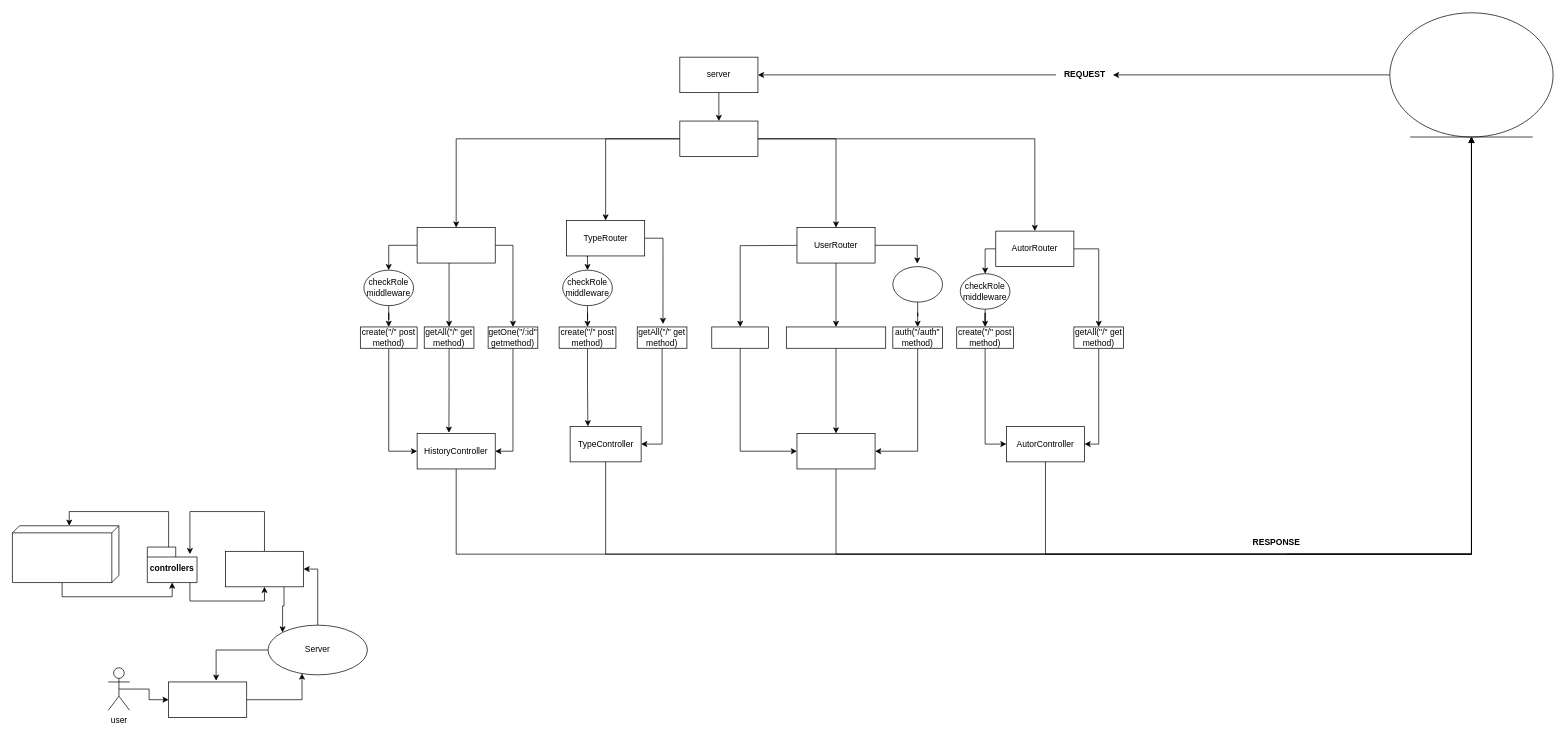
Some shapes in this 1566 by 737 pixel diagram are drawn without their labels. Each missing label, with the box of its shape:
checkAuth middleware: (892, 266, 943, 302)
client: (1389, 12, 1553, 137)
DataBase: (12, 525, 119, 583)
HistoryRouter: (416, 227, 495, 263)
Index Router: (679, 120, 758, 157)
Interface: (168, 681, 247, 717)
login("/login" post method): (711, 326, 769, 348)
registration("/registration" post method): (786, 326, 886, 348)
routers: (225, 551, 304, 587)
UserController: (796, 433, 875, 469)
